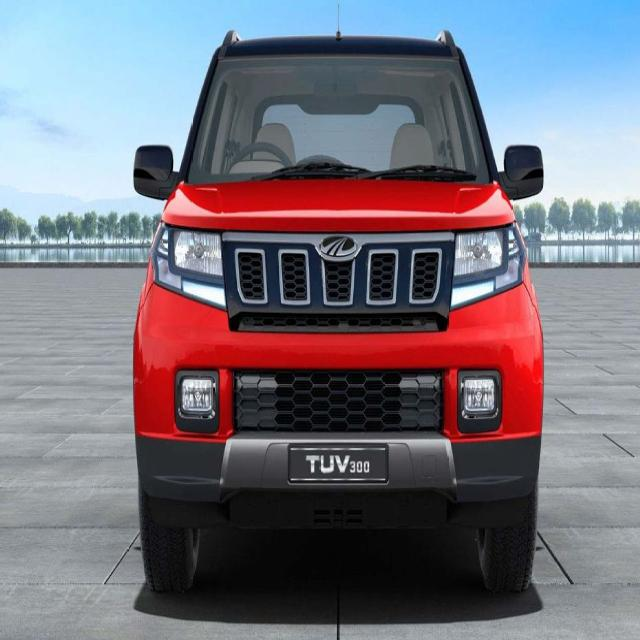light_vehicle: (117, 34, 550, 608)
